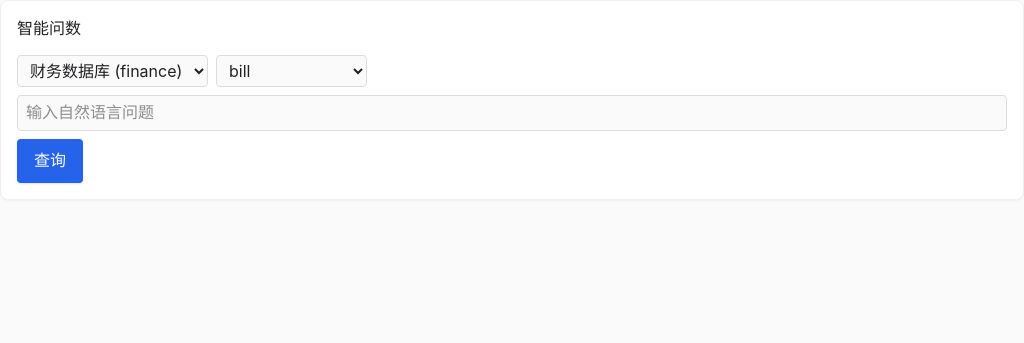
Test: QueryPanel.vue (REQ-052 Task 6 + REQ-054 Task 8 + review fix + BUG-015) › surfaces generic network errors
In the field with placeholder "输入自然语言问题": (512, 113) [17,95,1007,131], type "这企业欠费多少"
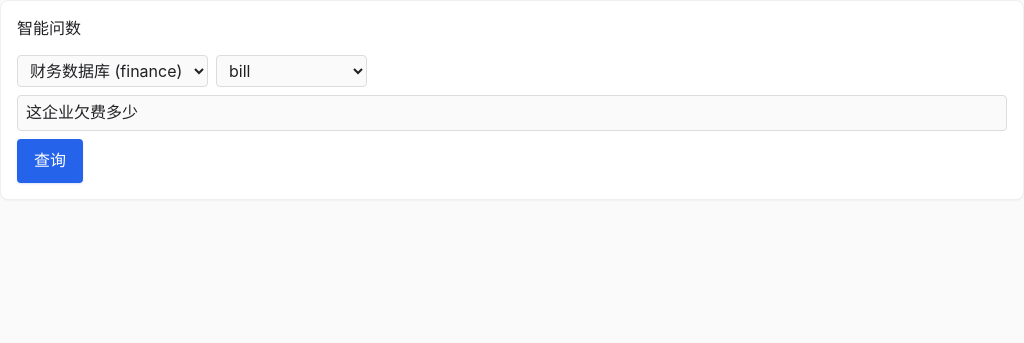
Submit the form, box [17,55,1007,183]
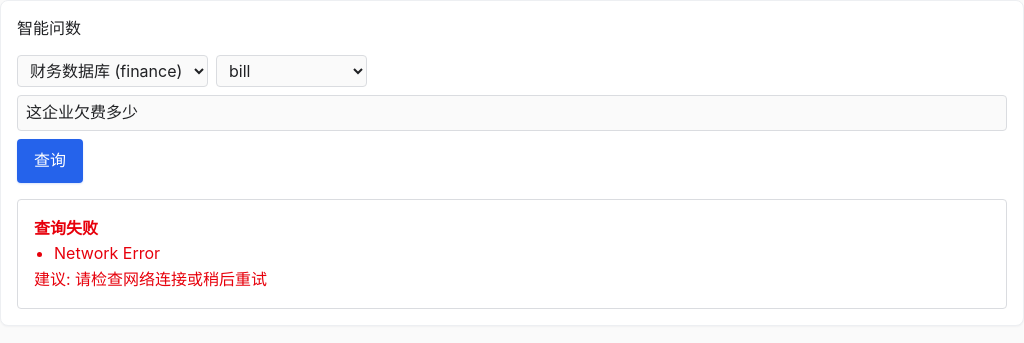
Check: the text "查询失败" is shown, box [34,218,98,238]
Check: the text "Network Error" is shown, box [54,243,160,263]
Check: the text "请检查网络连接或稍后重试" is shown, box [34,269,267,289]
